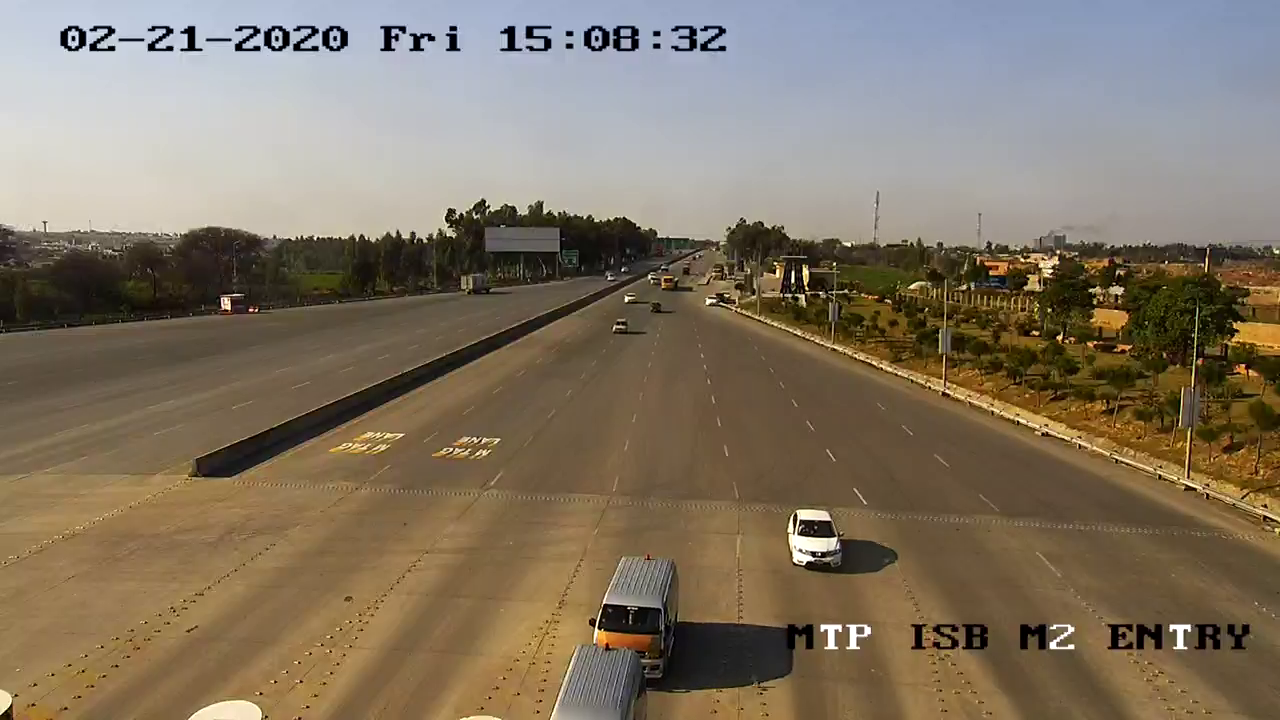f1: (777, 499, 847, 572)
f3: (583, 532, 685, 686)
